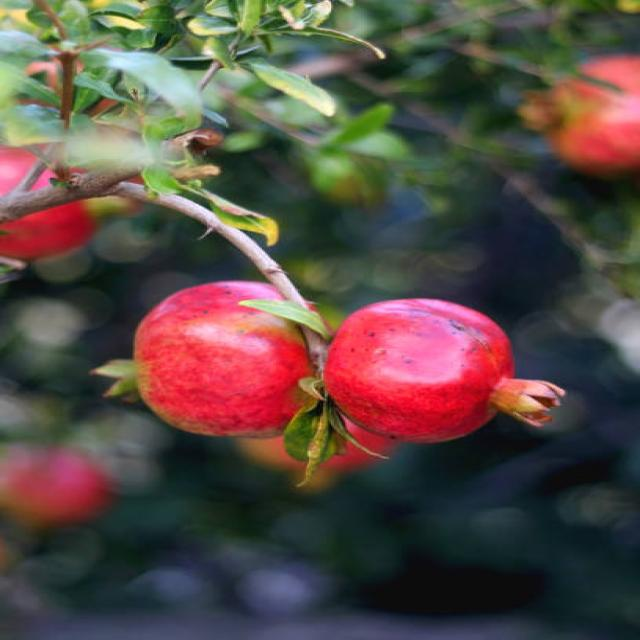Ripe: (329, 288, 565, 453), (92, 277, 324, 443)
